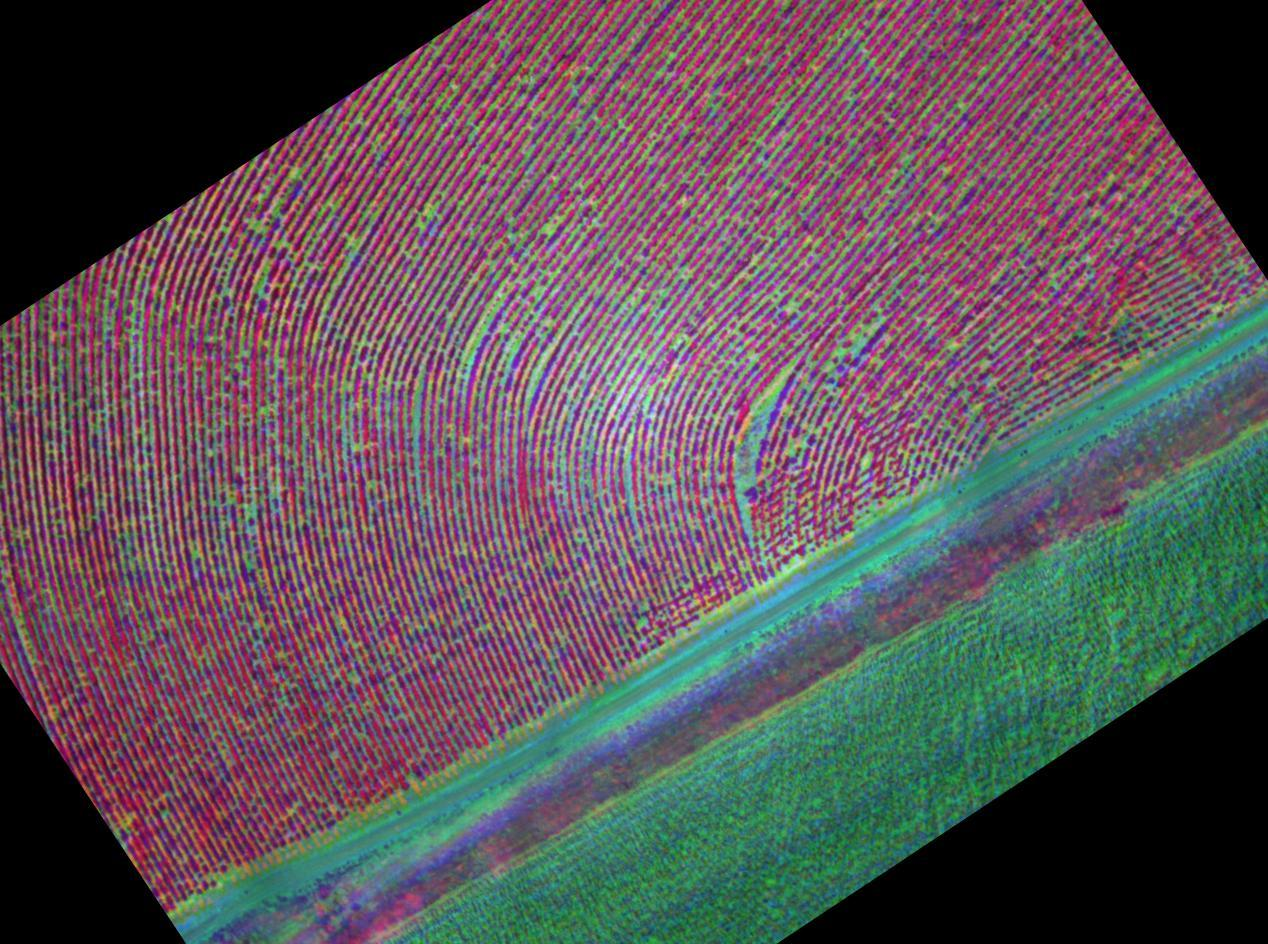dc: (678, 358, 815, 513), (101, 483, 277, 591), (111, 288, 234, 442), (463, 285, 582, 393), (818, 298, 897, 381)
